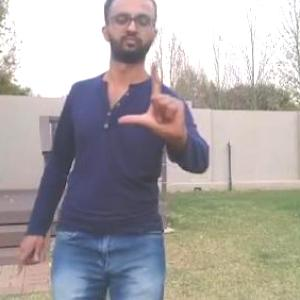land_hand: (117, 54, 192, 142)
